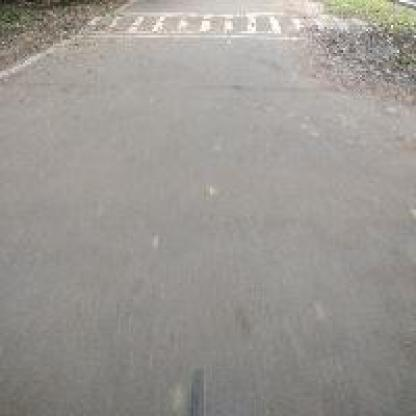Speed Bump: (73, 6, 318, 44)
